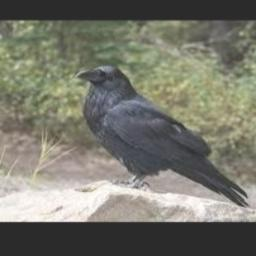Crow: (75, 65, 250, 209)
